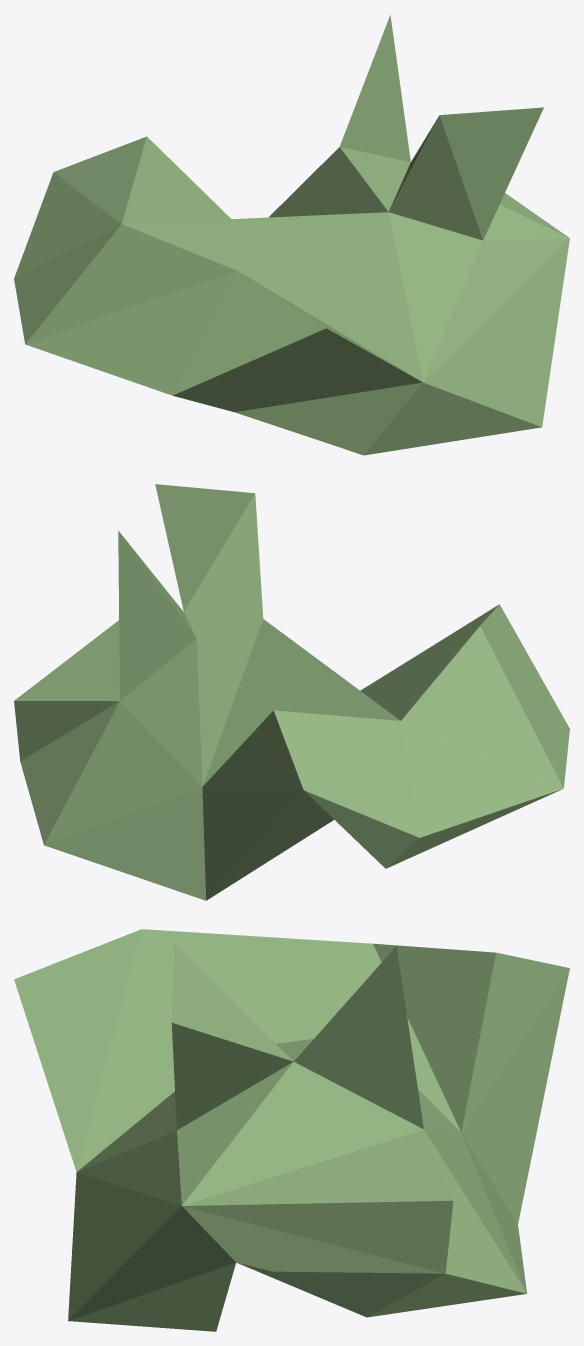
The picture shows the model from 3 angles, top to bottom: view 1: azimuth 30°, elevation 25°; view 2: azimuth 150°, elevation 25°; view 3: azimuth 270°, elevation 25°; orthographic projection. The views are drawn at different scales.
Visible parts, largest first — view 1: part0; view 2: part0; view 3: part0.
Boxes of the visible parts, <box> form: part0: <box>14,15,569,455</box>; part0: <box>14,484,569,900</box>; part0: <box>14,929,569,1331</box>.
Bounding box in the file's own units: 6.01 × 3.68 × 4.94.
